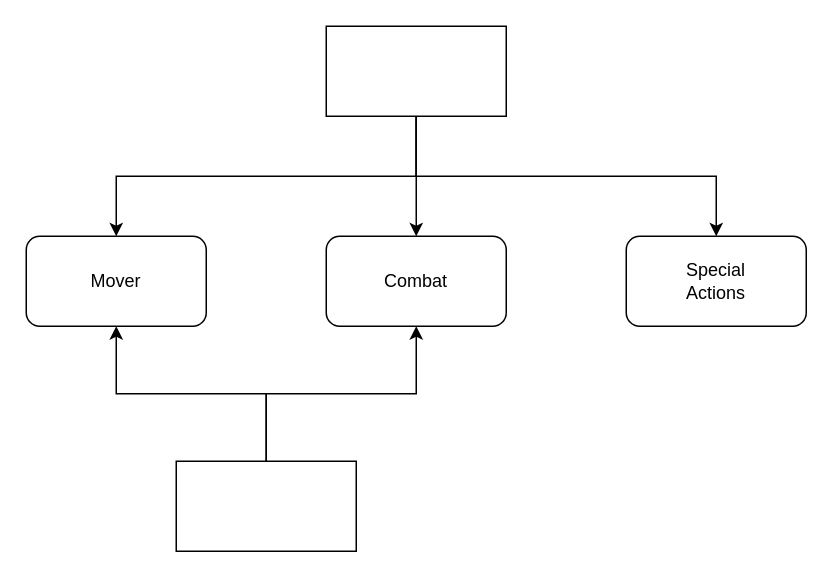
Some shapes in this 833 by 578 pixel diagram are drawn without their labels. Here are the shapes that lost their labels. From the top down, the box of each, then its label:
(325, 25, 506, 116): Player Controller
(175, 460, 356, 551): Enemy Controller
